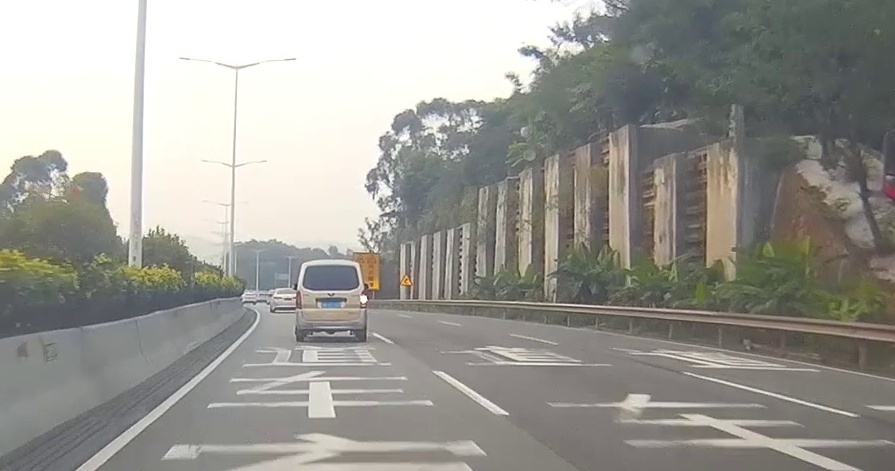L_light: (296, 290, 302, 310)
R_light: (359, 289, 368, 309), (325, 266, 336, 267)
day-right: (295, 259, 368, 342)
